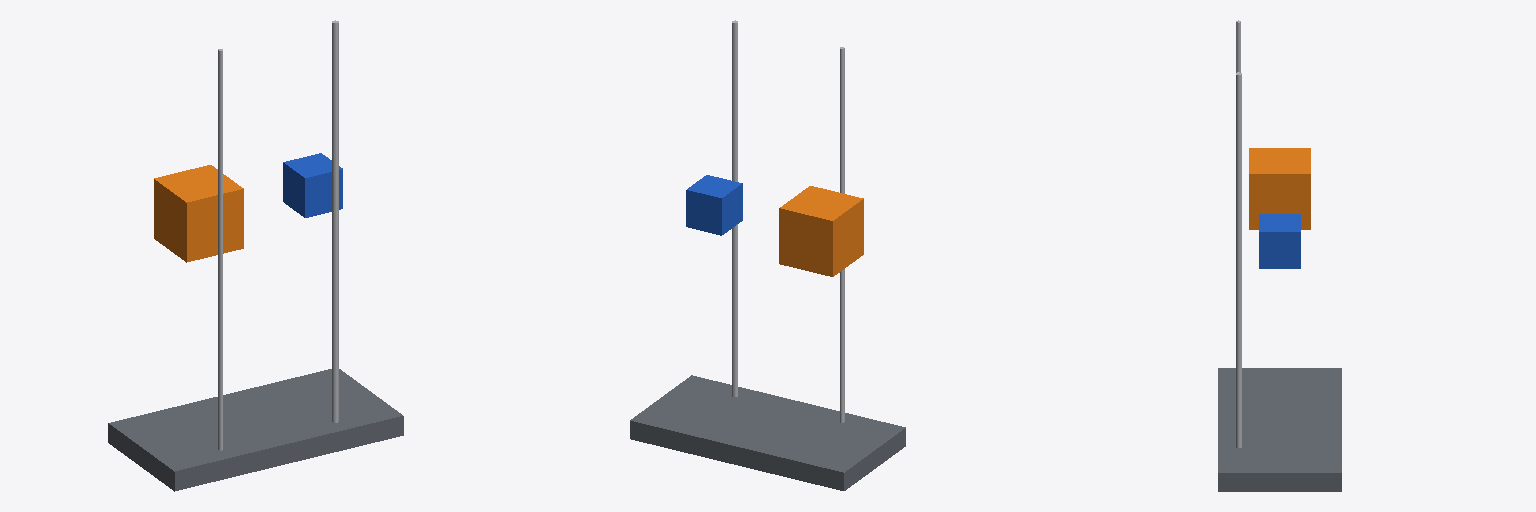
URDF robot description (screw_lift):
<?xml version="1.0"?>
<!-- Two vertical lifts on lead screws (RFC 0020 §4.4), the sample of docs/physics/actuators.md
     "Lead screws": lift_a on a self-locking trapezoidal screw carrying 100 kg, lift_b on a ball
     screw carrying 20 kg. Their motors, battery and screws are in screw_lift.overlay.yaml.
     Dimensions are illustrative, not a real product. -->
<robot name="screw_lift">
  <link name="world"/>
  <link name="base">
    <inertial>
      <origin xyz="0 0 0.025"/>
      <mass value="40"/>
      <inertia ixx="0.31" iyy="1.21" izz="1.5" ixy="0" ixz="0" iyz="0"/>
    </inertial>
    <visual>
      <origin xyz="0 0 0.025"/>
      <geometry><box size="0.6 0.3 0.05"/></geometry>
      <material name="grey"><color rgba="0.45 0.47 0.5 1"/></material>
    </visual>
    <visual>
      <origin xyz="-0.15 -0.1 0.55"/>
      <geometry><cylinder radius="0.006" length="1.0"/></geometry>
      <material name="steel"><color rgba="0.75 0.76 0.78 1"/></material>
    </visual>
    <visual>
      <origin xyz="0.15 -0.1 0.55"/>
      <geometry><cylinder radius="0.008" length="1.0"/></geometry>
      <material name="steel"/>
    </visual>
    <collision>
      <origin xyz="0 0 0.025"/>
      <geometry><box size="0.6 0.3 0.05"/></geometry>
    </collision>
  </link>
  <joint name="base_fixed" type="fixed">
    <parent link="world"/>
    <child link="base"/>
  </joint>

  <!-- Lift A: 100 kg on a Tr12x2 screw. -->
  <link name="carriage_a">
    <inertial>
      <mass value="100"/>
      <inertia ixx="0.375" iyy="0.375" izz="0.375" ixy="0" ixz="0" iyz="0"/>
    </inertial>
    <visual>
      <geometry><box size="0.15 0.15 0.15"/></geometry>
      <material name="orange"><color rgba="0.95 0.55 0.15 1"/></material>
    </visual>
    <collision>
      <geometry><box size="0.15 0.15 0.15"/></geometry>
    </collision>
  </link>
  <joint name="lift_a" type="prismatic">
    <parent link="base"/>
    <child link="carriage_a"/>
    <origin xyz="-0.15 0 0.6"/>
    <axis xyz="0 0 1"/>
    <limit lower="-0.4" upper="0.3" effort="2000" velocity="0.2"/>
  </joint>

  <!-- Lift B: 20 kg on a 16x5 ball screw. -->
  <link name="carriage_b">
    <inertial>
      <mass value="20"/>
      <inertia ixx="0.033" iyy="0.033" izz="0.033" ixy="0" ixz="0" iyz="0"/>
    </inertial>
    <visual>
      <geometry><box size="0.1 0.1 0.1"/></geometry>
      <material name="blue"><color rgba="0.2 0.45 0.85 1"/></material>
    </visual>
    <collision>
      <geometry><box size="0.1 0.1 0.1"/></geometry>
    </collision>
  </link>
  <joint name="lift_b" type="prismatic">
    <parent link="base"/>
    <child link="carriage_b"/>
    <origin xyz="0.15 0 0.6"/>
    <axis xyz="0 0 1"/>
    <limit lower="-0.45" upper="0.3" effort="2000" velocity="0.2"/>
  </joint>
</robot>

--- Render facts (derived) ---
Views: 3 orthographic renders of the robot side by side, from view 1: azimuth 30°, elevation 25°; view 2: azimuth 150°, elevation 25°; view 3: azimuth 270°, elevation 25°.
Robot: screw_lift — 4 links, 3 joints (2 prismatic, 1 fixed); root link world; default pose: every joint at zero.
Visible links, largest first — view 1: base, carriage_a, carriage_b; view 2: base, carriage_a, carriage_b; view 3: base, carriage_a, carriage_b.
Boxes of the visible links, x1=… form: base: x1=108, y1=20, x2=403, y2=491; carriage_a: x1=154, y1=165, x2=243, y2=262; carriage_b: x1=283, y1=153, x2=342, y2=217; base: x1=630, y1=20, x2=905, y2=490; carriage_a: x1=779, y1=186, x2=863, y2=276; carriage_b: x1=686, y1=175, x2=742, y2=235; base: x1=1218, y1=20, x2=1341, y2=491; carriage_a: x1=1249, y1=148, x2=1310, y2=229; carriage_b: x1=1259, y1=214, x2=1300, y2=268.
Bounding box of the posed robot: 0.6 × 0.3 × 1.05 m (x, y, z).
Geometry: primitives only (box / cylinder / sphere), no mesh files.
